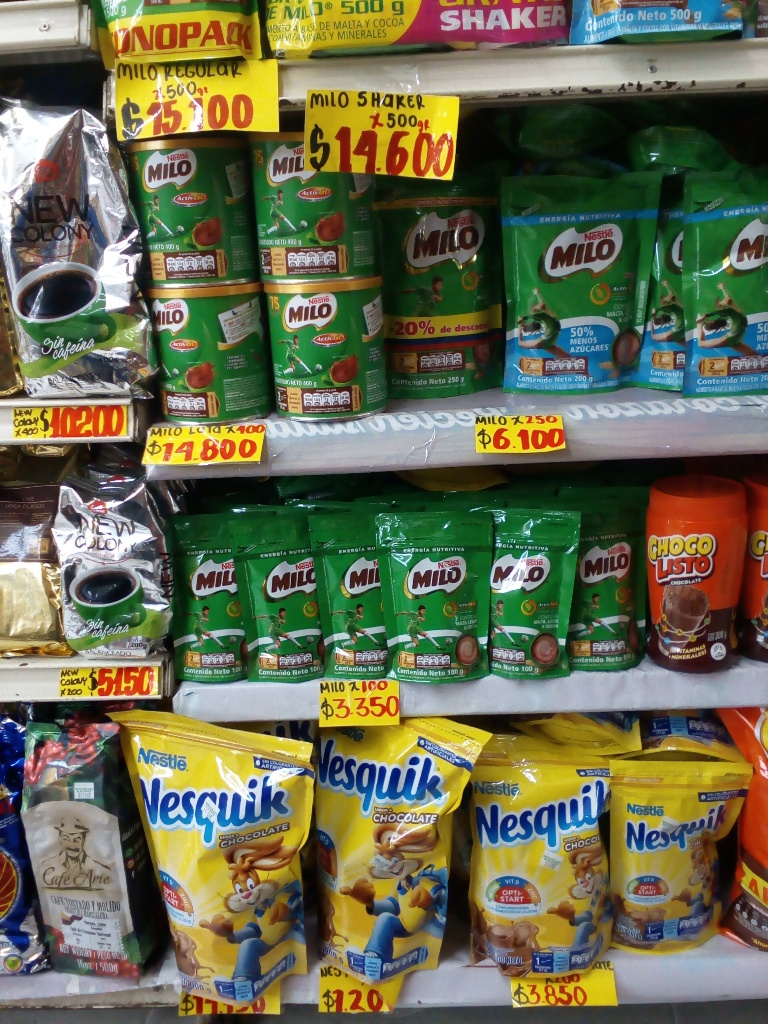COL0170103TRR30000: (642, 478, 751, 674)
COL0170203DYP10000: (566, 518, 644, 669)
COL0170203DYP25000: (376, 176, 511, 405)
COL0170203LAT40000: (125, 135, 254, 285)
COL0170205DYP20000: (505, 176, 658, 403)
COL0170303DYP20000: (605, 753, 747, 954)
